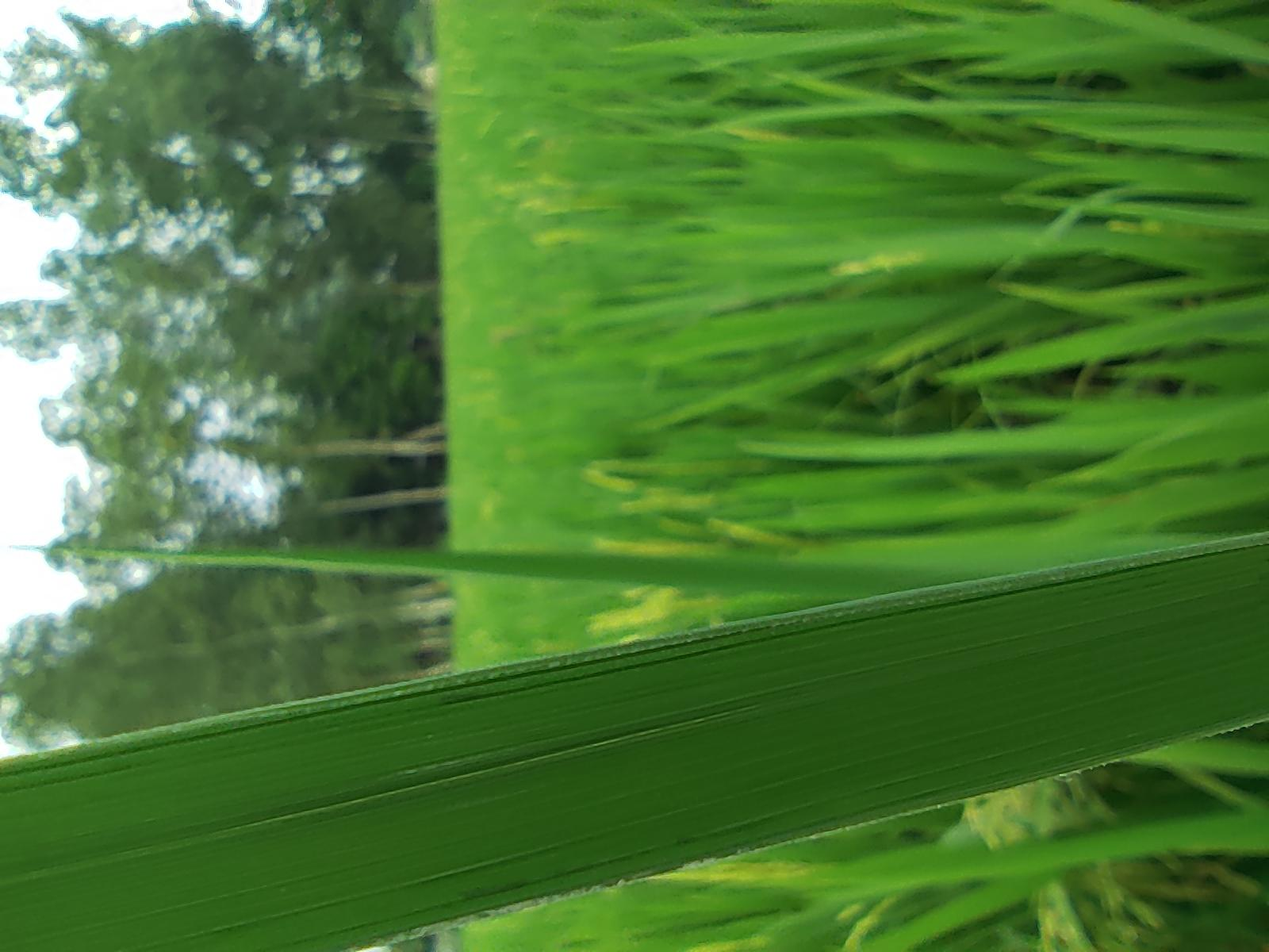Healthy: (0, 1, 556, 951)
